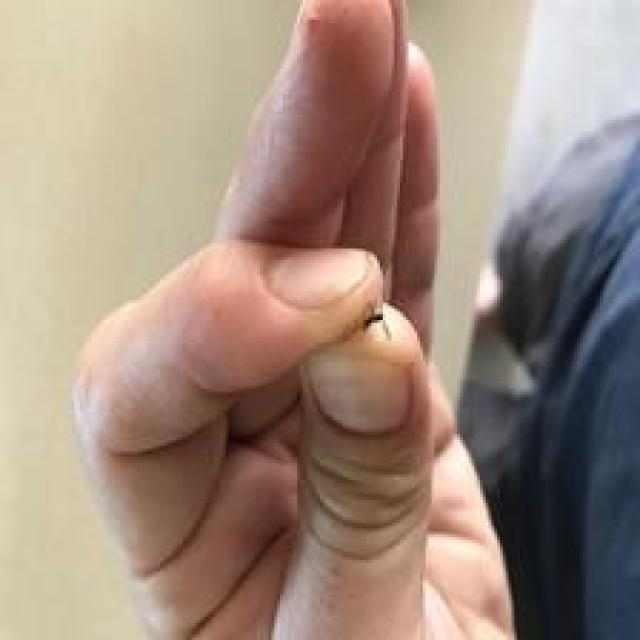Aedes albopictus: (361, 304, 393, 342)
